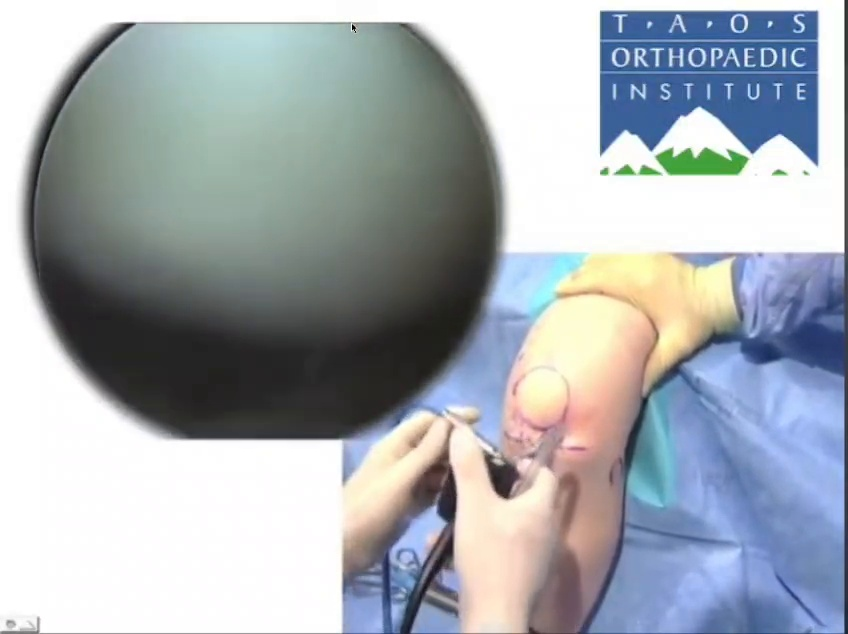arthroscope: (63, 0, 424, 276)
probe: (761, 365, 848, 634), (194, 430, 351, 461)
